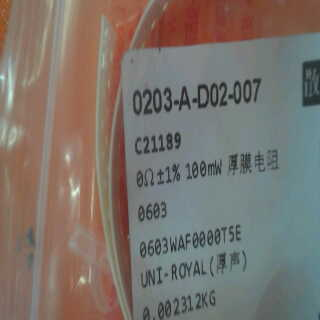0R: (135, 157, 186, 222)
